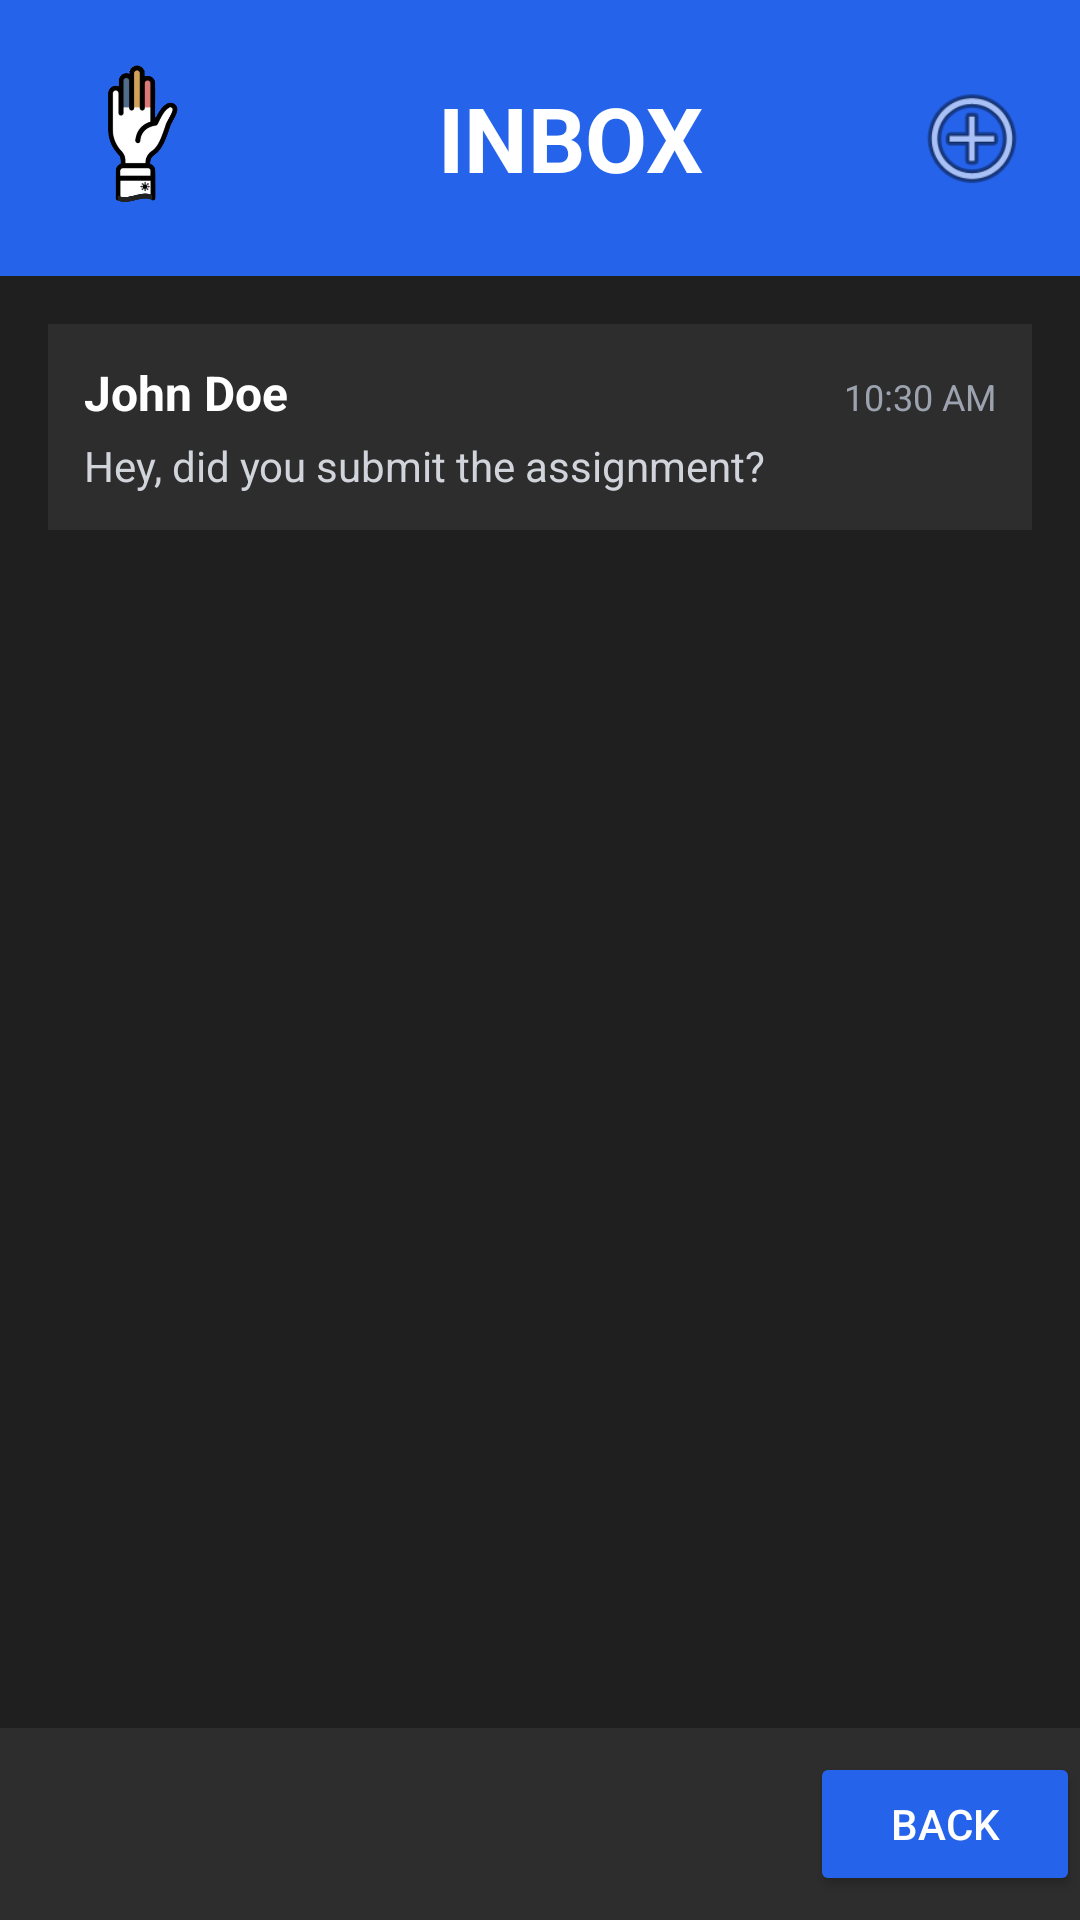

Locate icon controls on the screen. Image size 1080px×1920px, boxes as BBox(x1, y1, x2, y2).
Compose: BBox(927, 94, 1017, 183)
